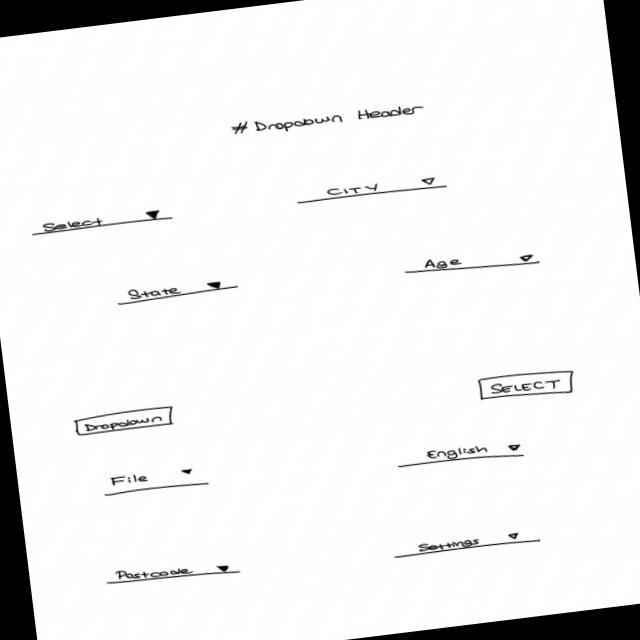button: (476, 366, 578, 405), (72, 404, 178, 439)
label: (228, 97, 427, 140)
select: (403, 245, 543, 283), (295, 173, 451, 207), (392, 528, 543, 563), (103, 555, 242, 593), (395, 438, 527, 474), (31, 206, 177, 238), (115, 275, 241, 308), (101, 465, 211, 500)
